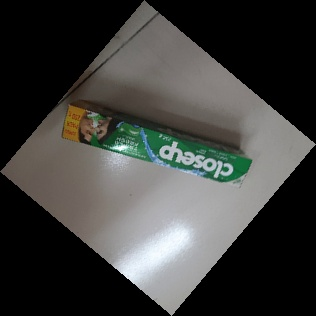CloseUp Xanh: (59, 100, 254, 193)
